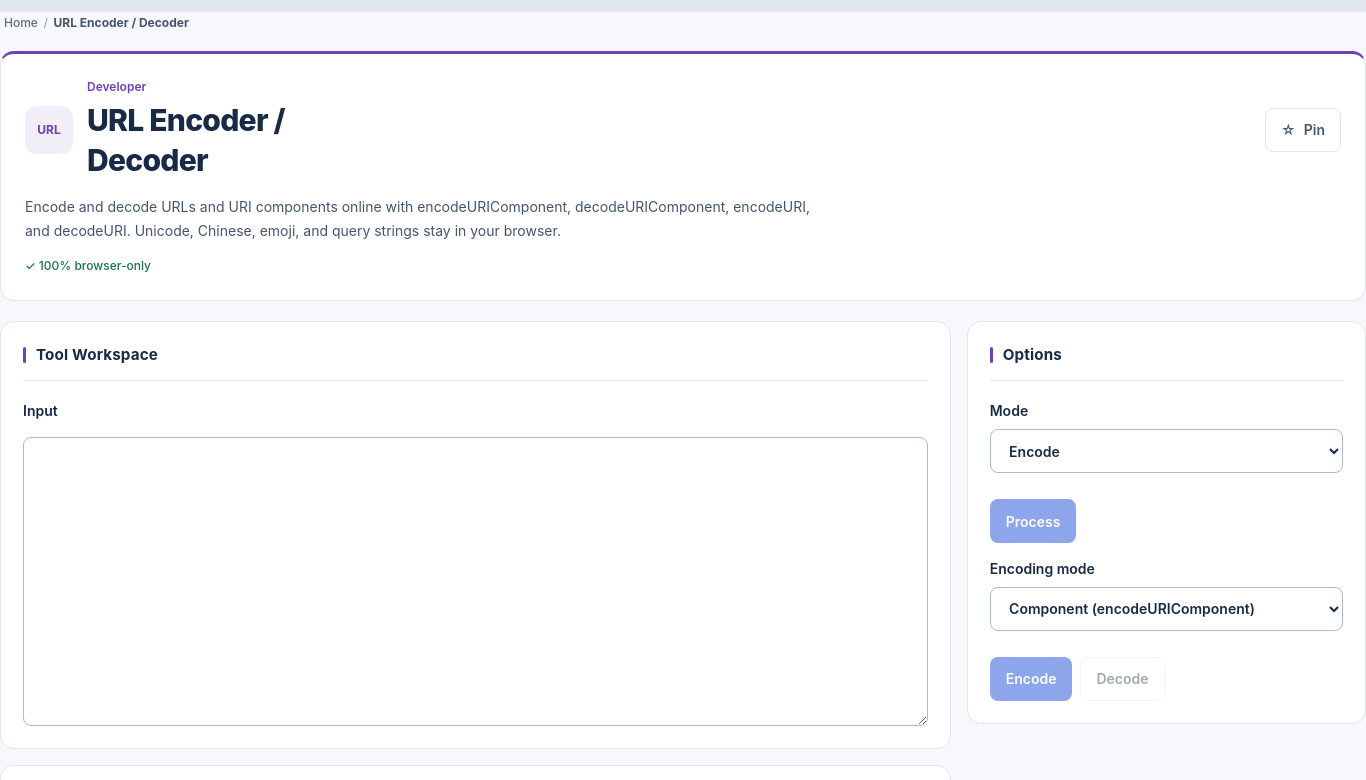
Test: DeveloperToolsPage URL encoder › decodes valid component input and reports malformed percent sequences
Type "%E4%BD%A0%E5%A5%BD%20%F0%9F%98%80" into the text box labelled "Input" at (475, 582), box [23,437,928,726]
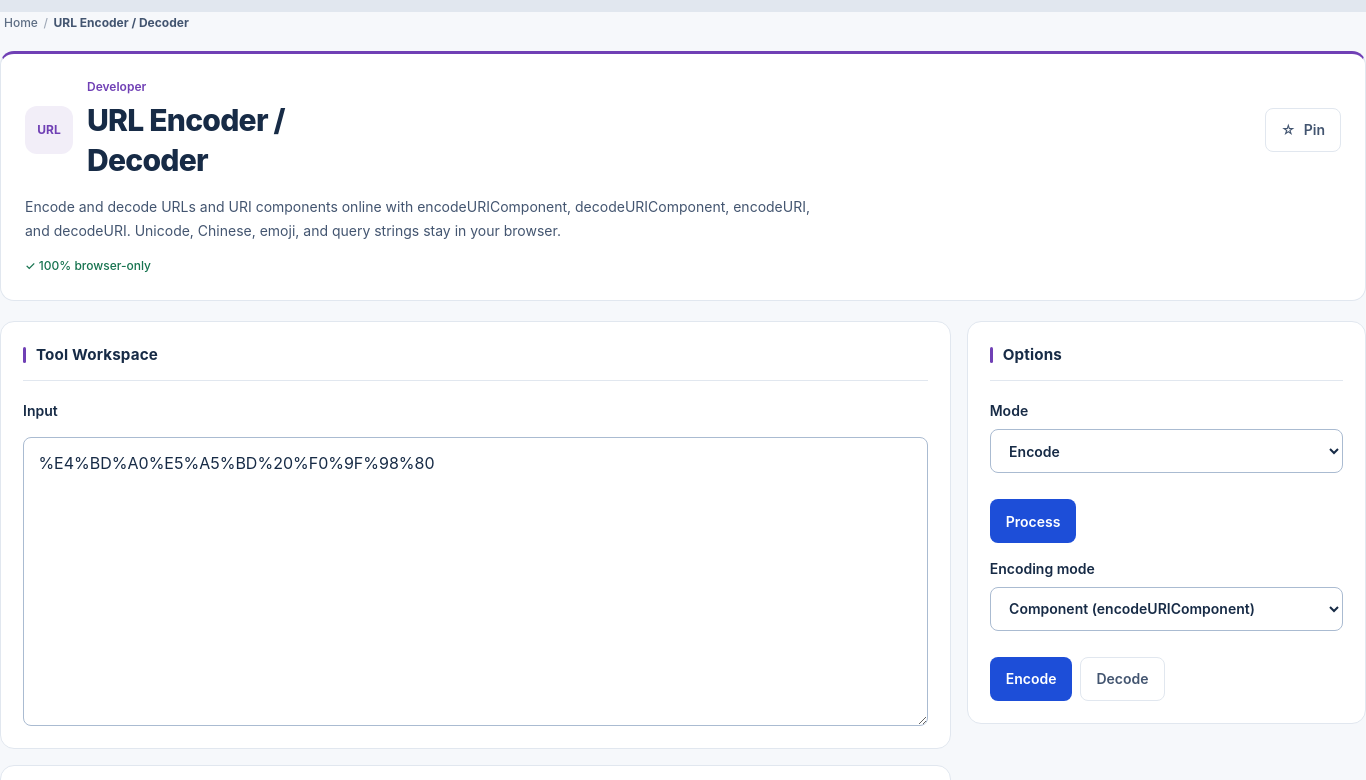
Click the button "Decode" at (1123, 679), box [1080,657,1165,701]
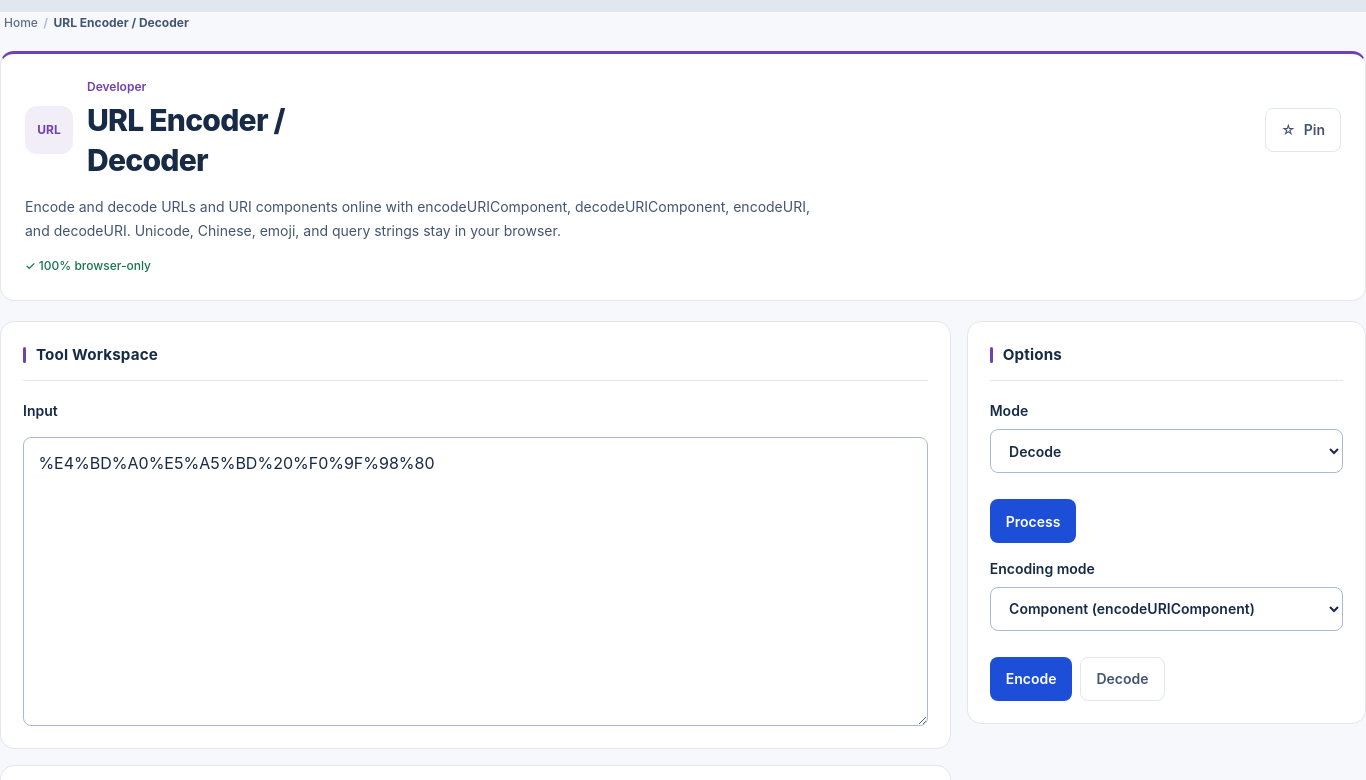
Replace the text in the text box labelled "Input" with "%E0%A4%A" at (475, 582), box [23,437,928,726]
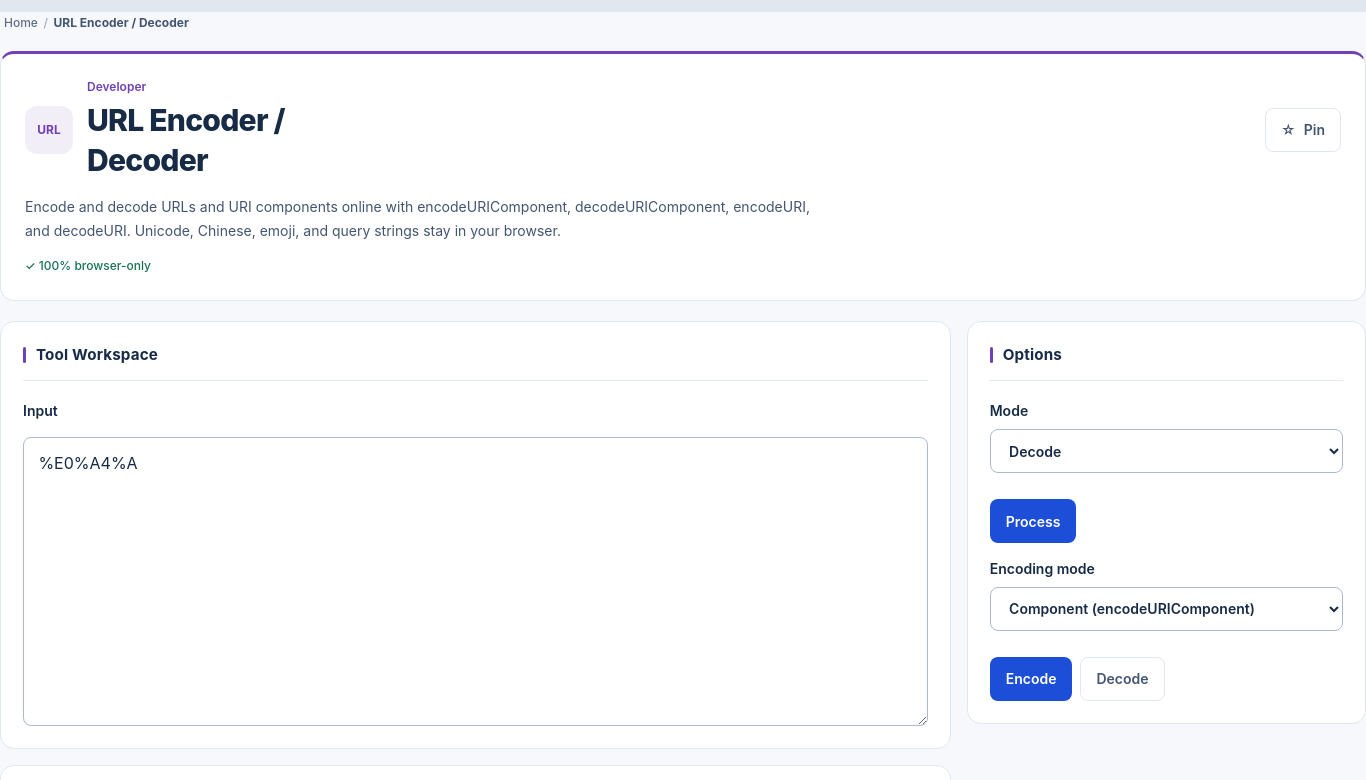
Click the button "Decode" at (1123, 679), box [1080,657,1165,701]
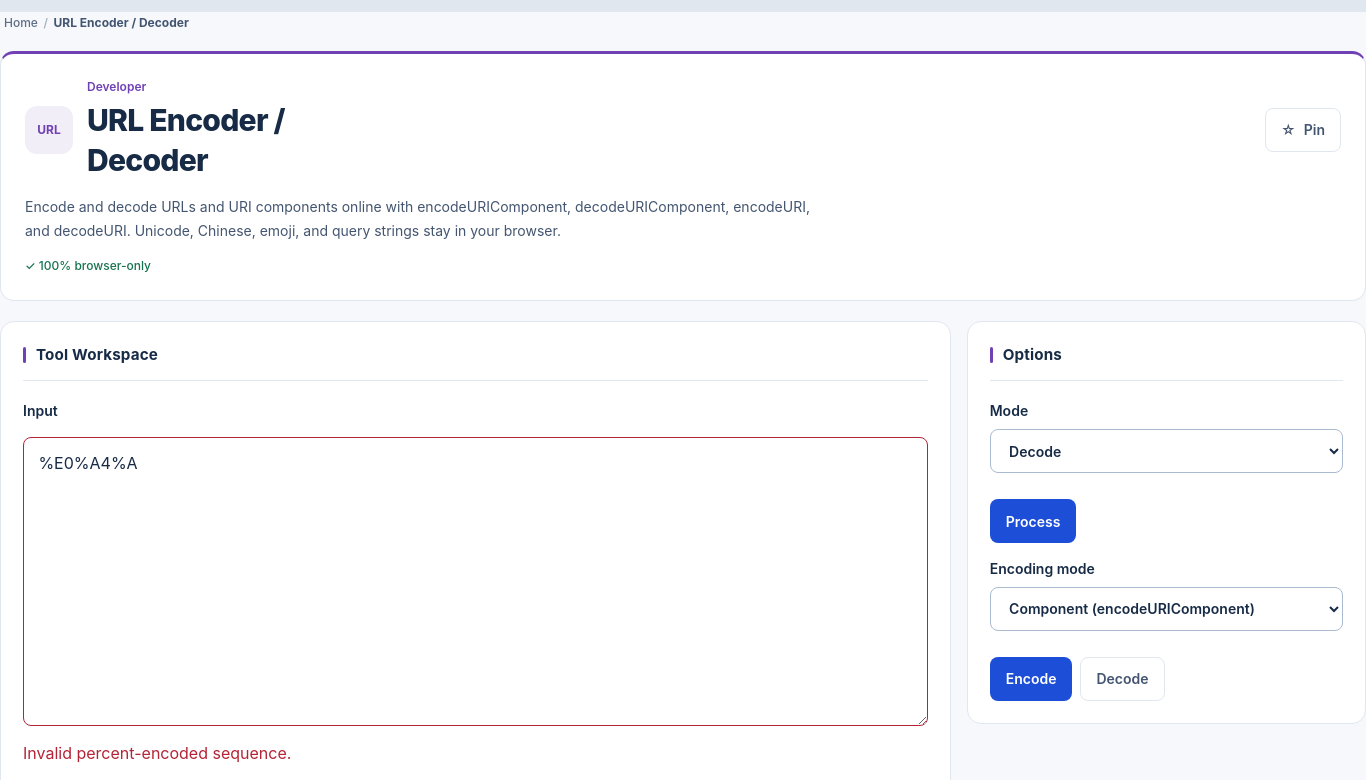
Now the text "Invalid percent-encoded sequence." is shown, box [23,743,291,763]
